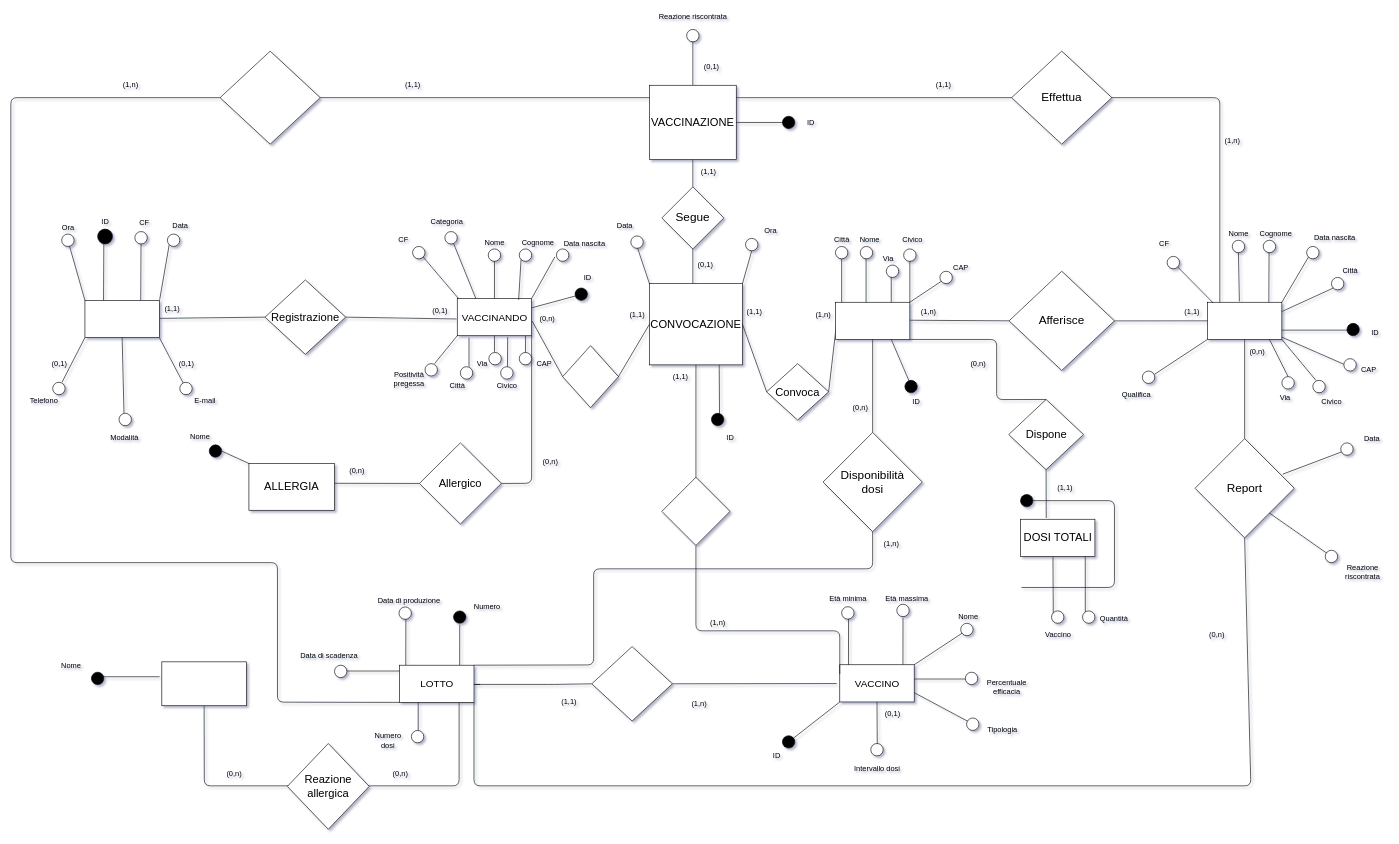
Image size: 1399x844. Some labels were removed from this diagram. Each missing label, with the centre of its shape:
CENTRO VACCINALE: [872,320]
Contiene: [631,683]
EFFETTO ALLERGICO: [203,683]
MEDICO: [1244,320]
Ottiene: [590,376]
PRE-ADESIONE: [121,319]
Somministrazione: [269,97]
Utilizza: [695,511]
